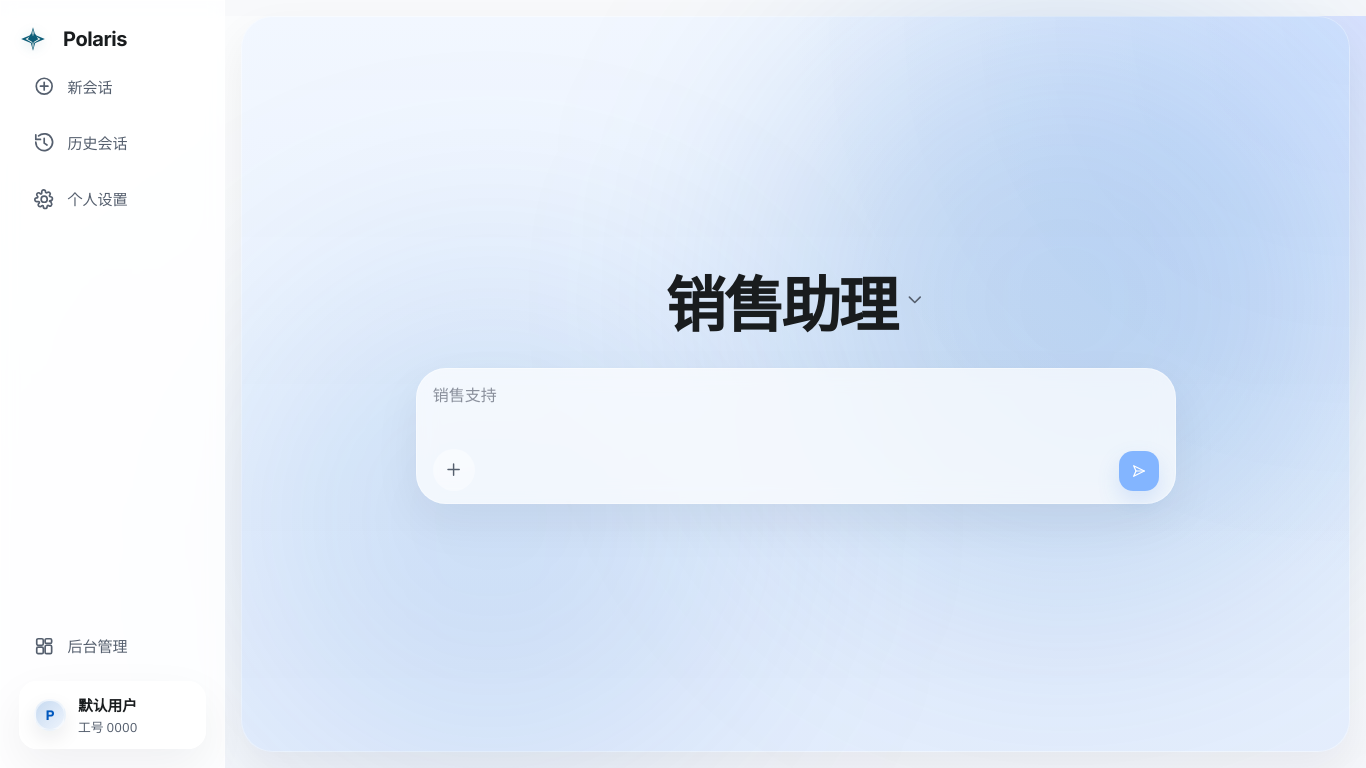
opens the attachment menu from the composer
Expected: the text "销售助理" is shown, [666, 256, 896, 344]
Click the button named "附件菜单": (454, 470) [433, 448, 475, 490]
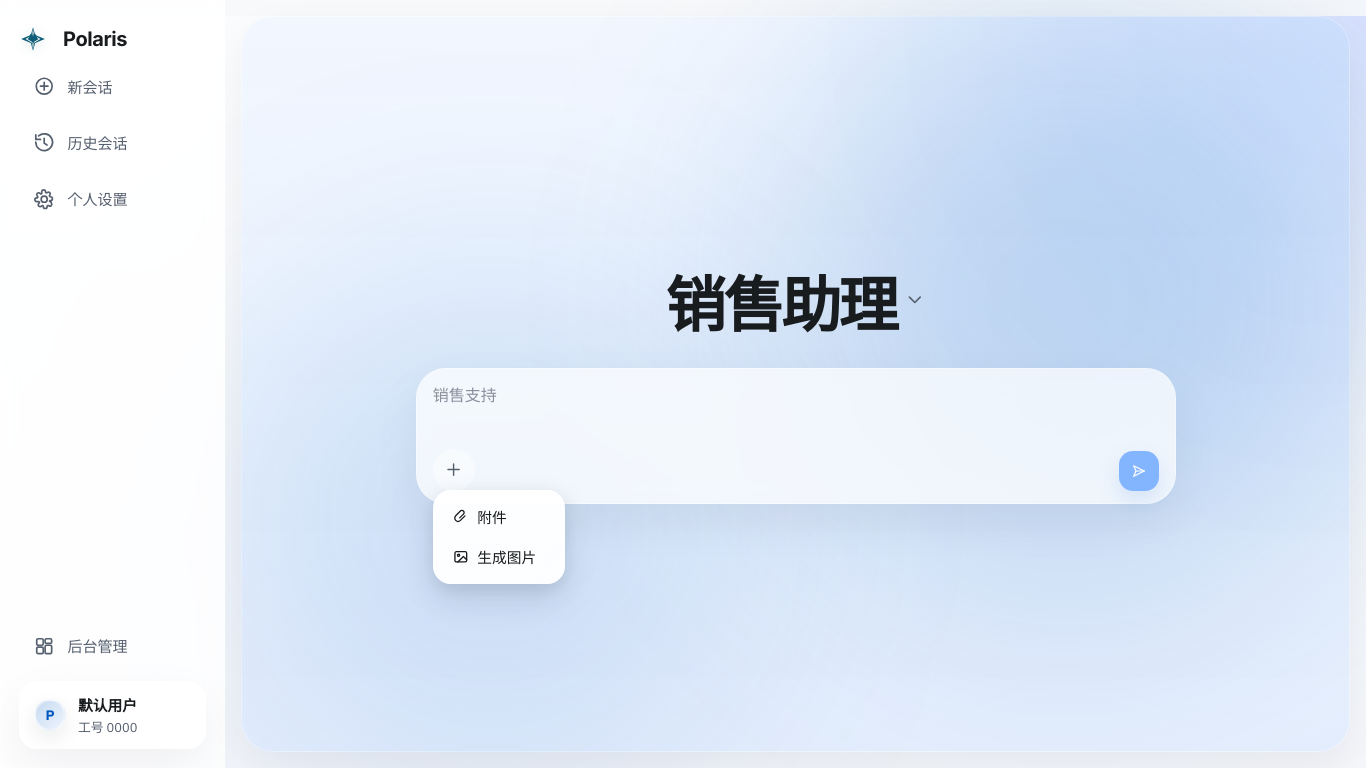
Result: the menu named "附件菜单" is shown at [433, 490, 565, 584]
Result: the menu item "附件" is shown at [440, 496, 558, 536]
Result: the menu item "生成图片" is shown at [440, 536, 558, 576]
